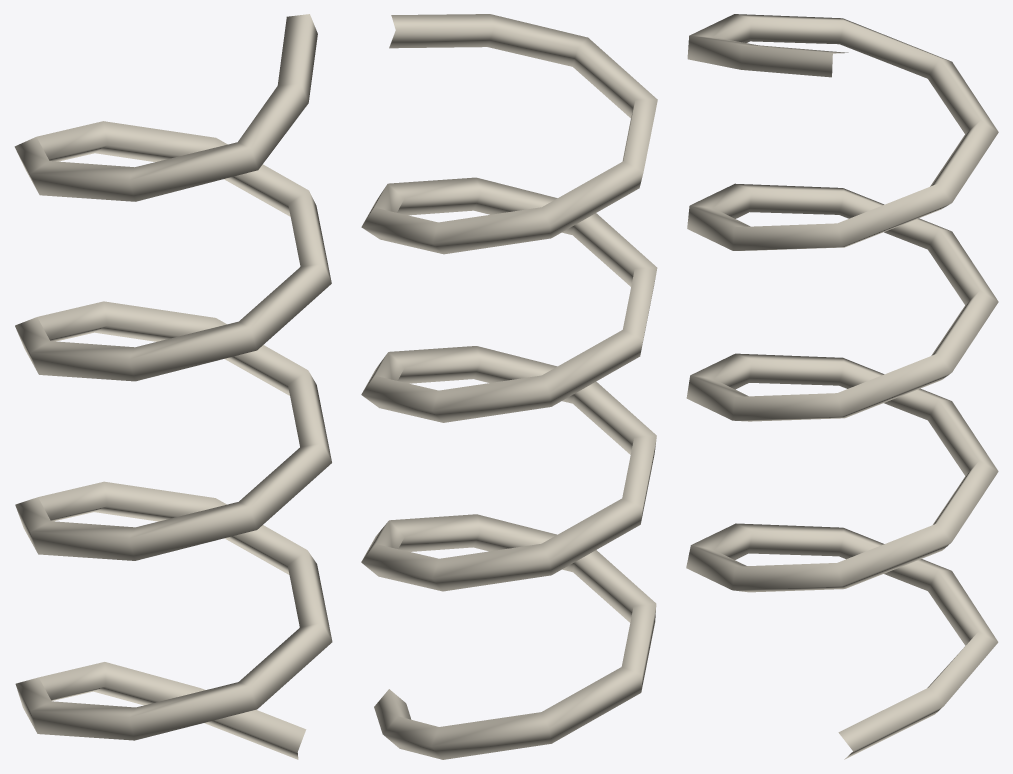
File: spring.glb
3 renders of one model, left to right at view 1: azimuth 30°, elevation 25°; view 2: azimuth 150°, elevation 25°; view 3: azimuth 270°, elevation 25°, orthographic. The views are drawn at different scales.
Parts seen in each view (by area): view 1: spring; view 2: spring; view 3: spring.
Boxes of the visible parts, left/top/right/bottom form: spring: left=14, top=14, right=332, bottom=759; spring: left=361, top=14, right=657, bottom=759; spring: left=686, top=14, right=998, bottom=759.
Bounding box in the file's own units: 0.1502 × 0.3748 × 0.1498.
